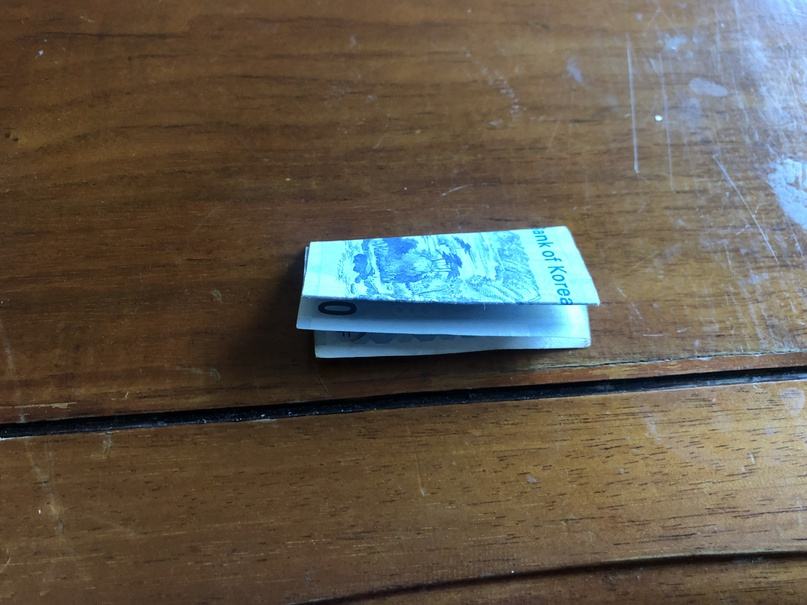1000won: (296, 226, 601, 363)
